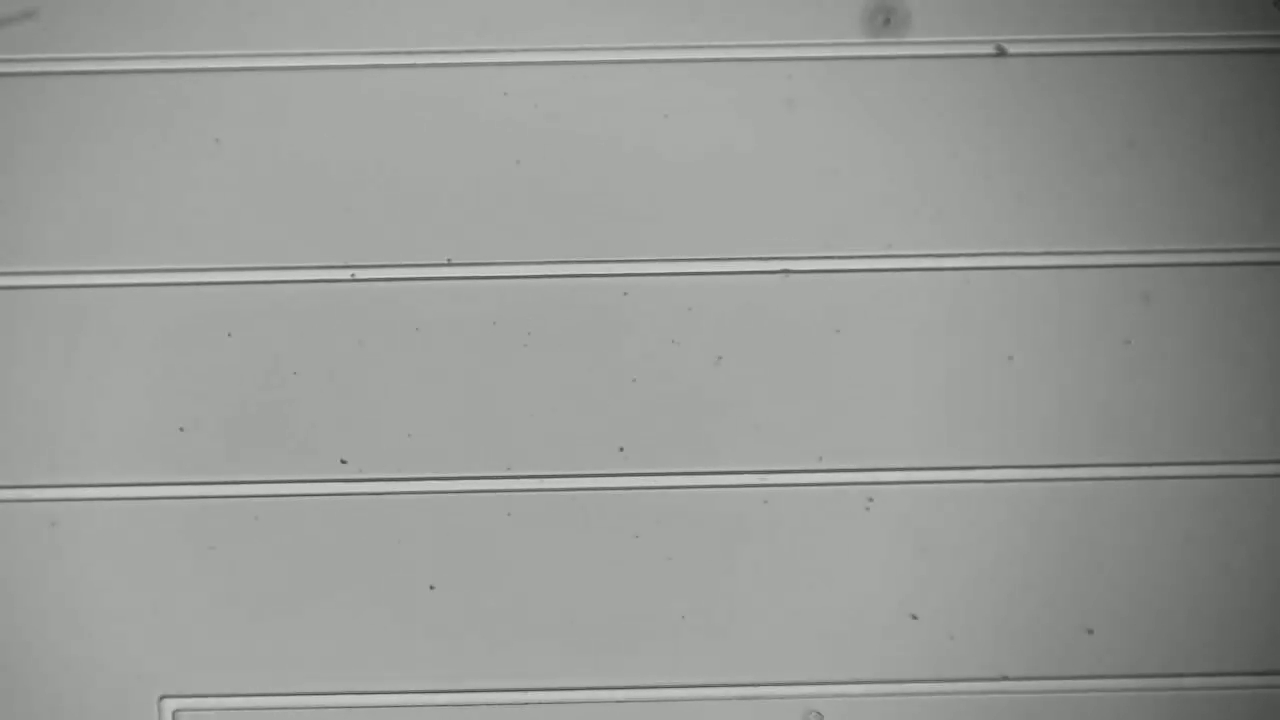stains_enbedded: (987, 33, 1030, 68)
